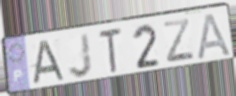2: (131, 23, 162, 71)
A: (30, 38, 68, 87), (196, 12, 233, 61)
J: (67, 32, 94, 80)
T: (97, 26, 124, 76)
Z: (161, 17, 197, 64)
